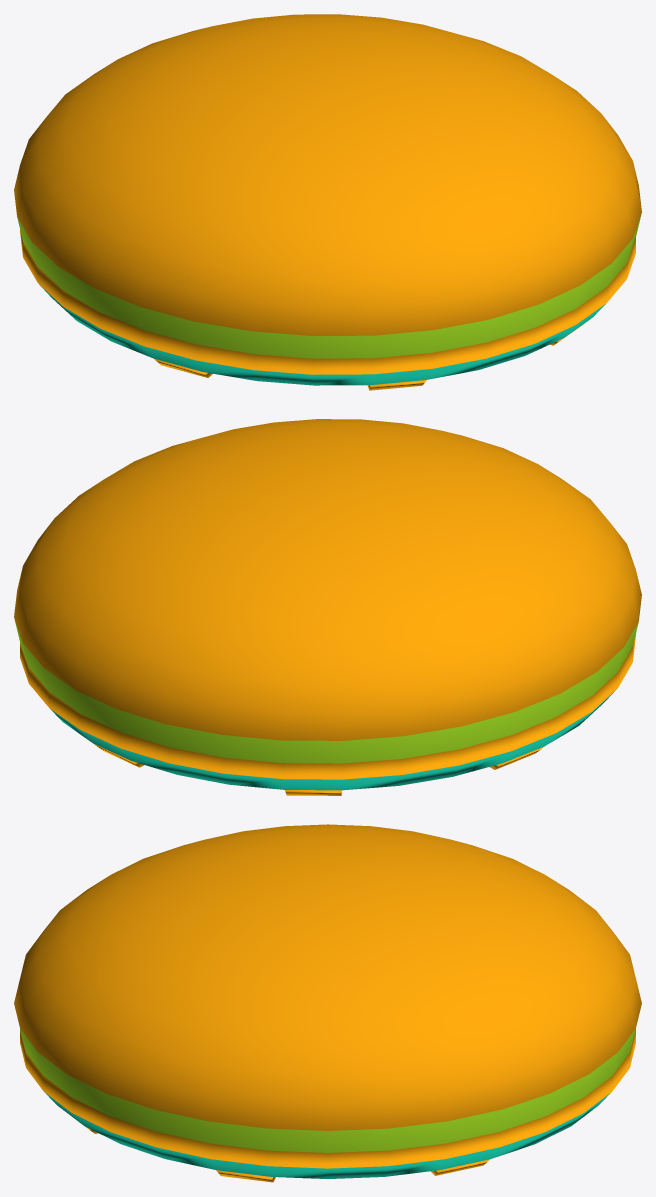
File: Player.fbx
3 renders of one model, top to bottom at view 1: azimuth 30°, elevation 25°; view 2: azimuth 150°, elevation 25°; view 3: azimuth 270°, elevation 25°, orthographic. The views are drawn at different scales.
Visible parts, largest first — view 1: Sphere; view 2: Sphere; view 3: Sphere.
Part boxes in pixels (bbox=[...]): Sphere: bbox=[14, 14, 641, 390]; Sphere: bbox=[14, 419, 641, 795]; Sphere: bbox=[14, 824, 641, 1182].
Bounding box in the file's own units: 236 × 114 × 245.
